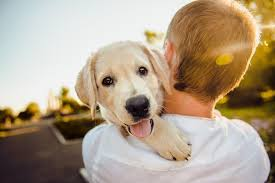dog: (98, 63, 161, 140)
